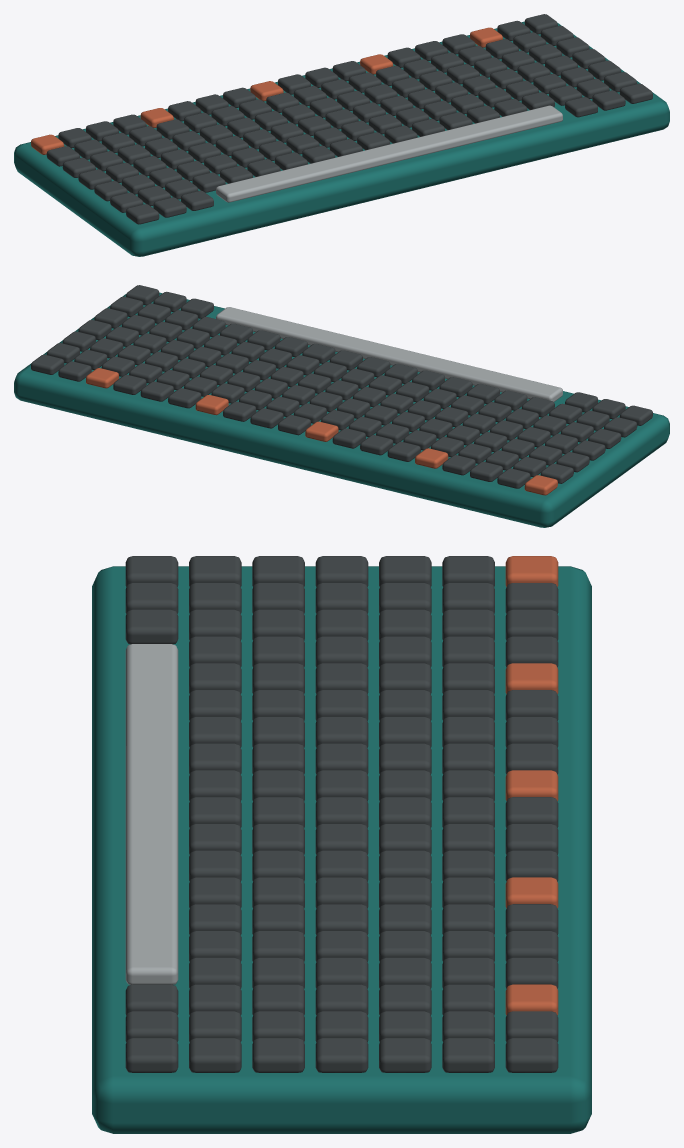
Rendered from kb_stream_macro-35971b5bd7dc.glb.
The picture shows the model from 3 angles, top to bottom: view 1: azimuth 30°, elevation 25°; view 2: azimuth 150°, elevation 25°; view 3: azimuth 270°, elevation 25°; orthographic projection. The views are drawn at different scales.
Visible parts, largest first — view 1: surface_graphite, surface_teal, surface_steel, surface_terracotta; view 2: surface_graphite, surface_teal, surface_steel, surface_terracotta; view 3: surface_graphite, surface_teal, surface_steel, surface_terracotta.
Boxes of the visible parts, <box> form: surface_graphite: <box>46,14,652,224</box>; surface_teal: <box>14,21,669,256</box>; surface_steel: <box>216,105,562,202</box>; surface_terracotta: <box>31,27,502,154</box>; surface_graphite: <box>31,285,652,488</box>; surface_teal: <box>14,292,669,527</box>; surface_steel: <box>216,307,562,401</box>; surface_terracotta: <box>86,368,557,495</box>; surface_graphite: <box>125,556,558,1072</box>; surface_teal: <box>92,566,591,1133</box>; surface_steel: <box>125,644,178,984</box>; surface_terracotta: <box>505,556,558,1015</box>.
Bounding box in the file's own units: 0.354 × 0.023 × 0.142.
